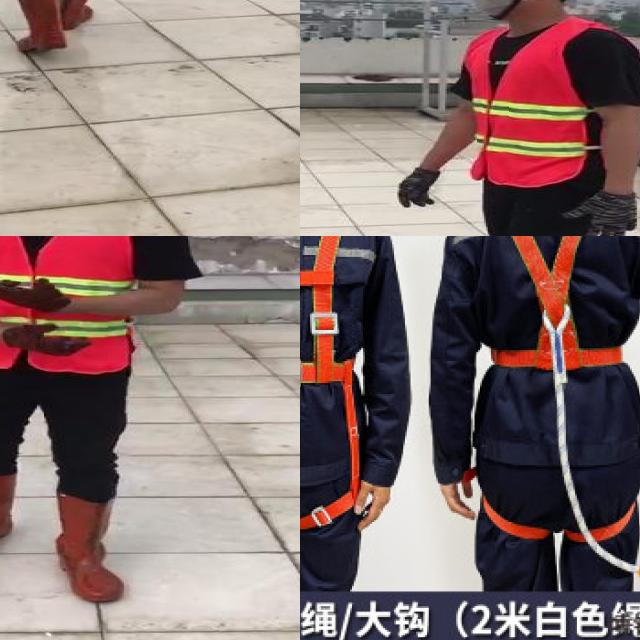Harness: (470, 236, 640, 542), (300, 236, 366, 531)
boots: (55, 494, 124, 603), (10, 0, 67, 55), (61, 0, 104, 31)
face_mask: (462, 0, 532, 14)
hand_glove: (562, 191, 636, 236), (0, 323, 84, 357), (0, 278, 72, 315), (398, 167, 439, 209)
person: (0, 236, 186, 609), (384, 0, 640, 236)
vest: (0, 236, 147, 375), (465, 22, 589, 185)
